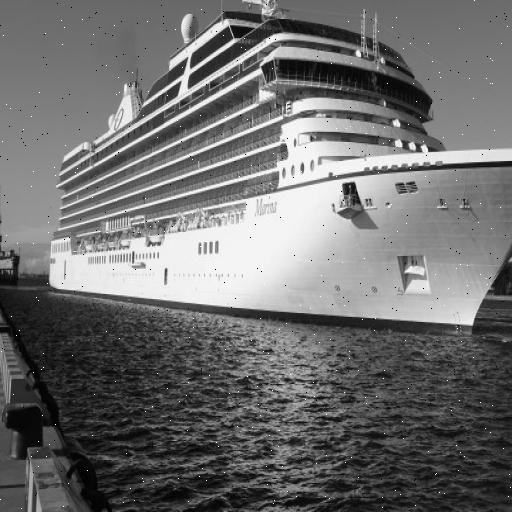cruises: (42, 1, 512, 348)
